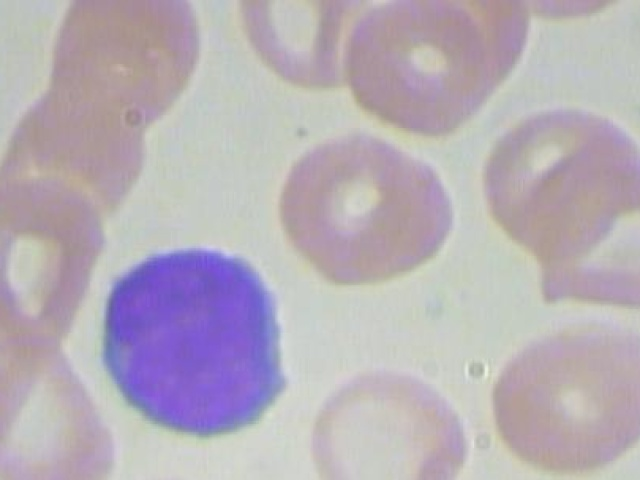RBC: (259, 123, 465, 300), (474, 312, 640, 480), (22, 0, 228, 117), (518, 131, 640, 322), (299, 351, 475, 480), (341, 0, 503, 135), (0, 168, 117, 348), (0, 339, 127, 480), (221, 0, 378, 85), (66, 463, 244, 480)
WBC: (103, 235, 293, 439)
